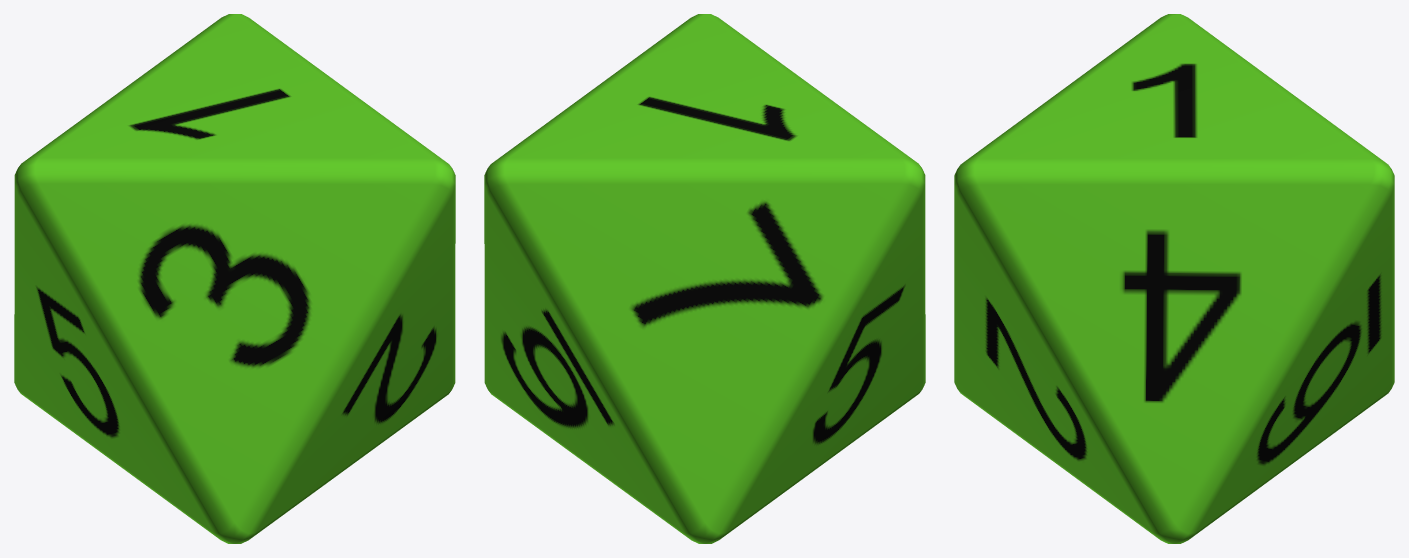
3 views of the same model, side by side, from view 1: azimuth 30°, elevation 25°; view 2: azimuth 150°, elevation 25°; view 3: azimuth 270°, elevation 25° (orthographic).
Visible parts, largest first — view 1: Object_2; view 2: Object_2; view 3: Object_2.
Boxes of the visible parts, box(x1,y1,x2,y2) form: Object_2: box(14, 14, 455, 543); Object_2: box(484, 14, 925, 543); Object_2: box(954, 14, 1394, 543).
Size of the model in its own units: 2.69 by 2 by 2.36.
1 material, 1 textured.
